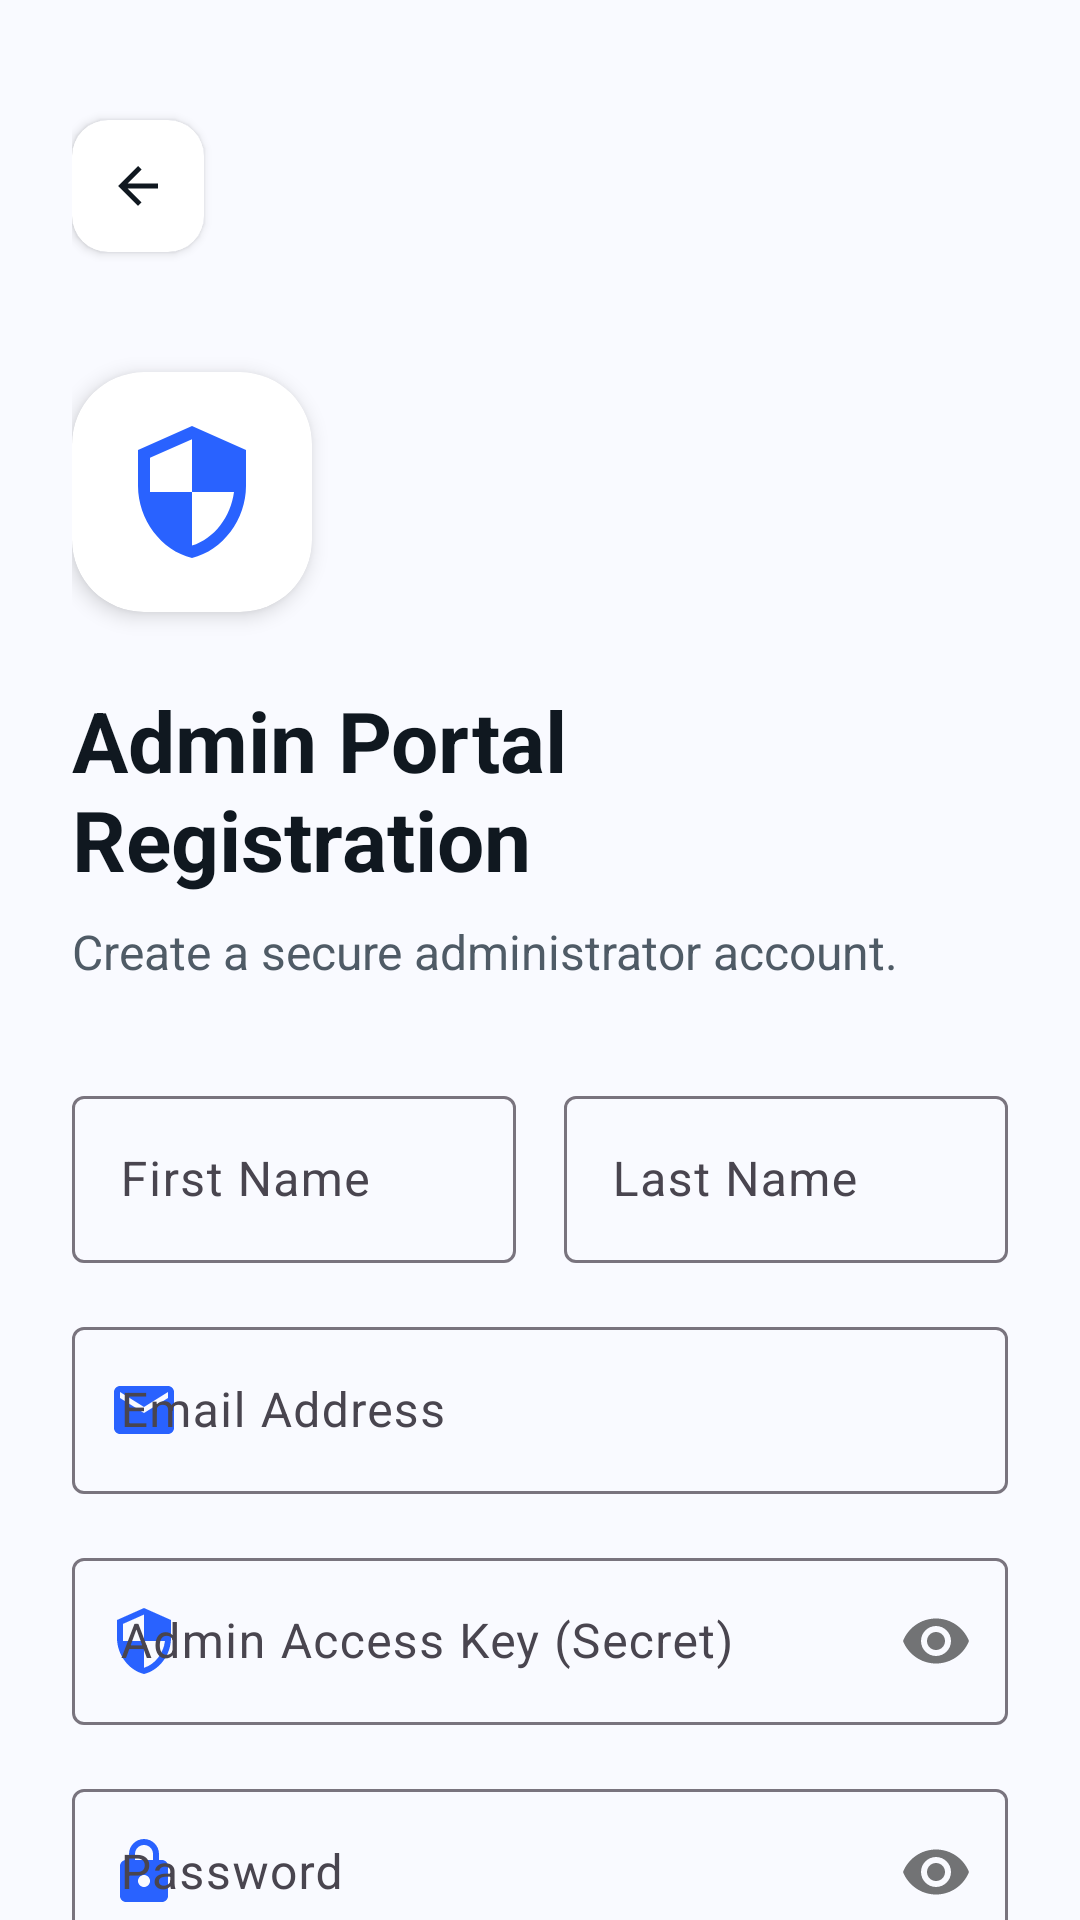

Named icons in this screenshot (1080 × 1920) and their bounding boxes, bbox(x1, y1, x2, y2):
back: bbox(72, 120, 204, 252)
security: bbox(72, 383, 308, 612)
